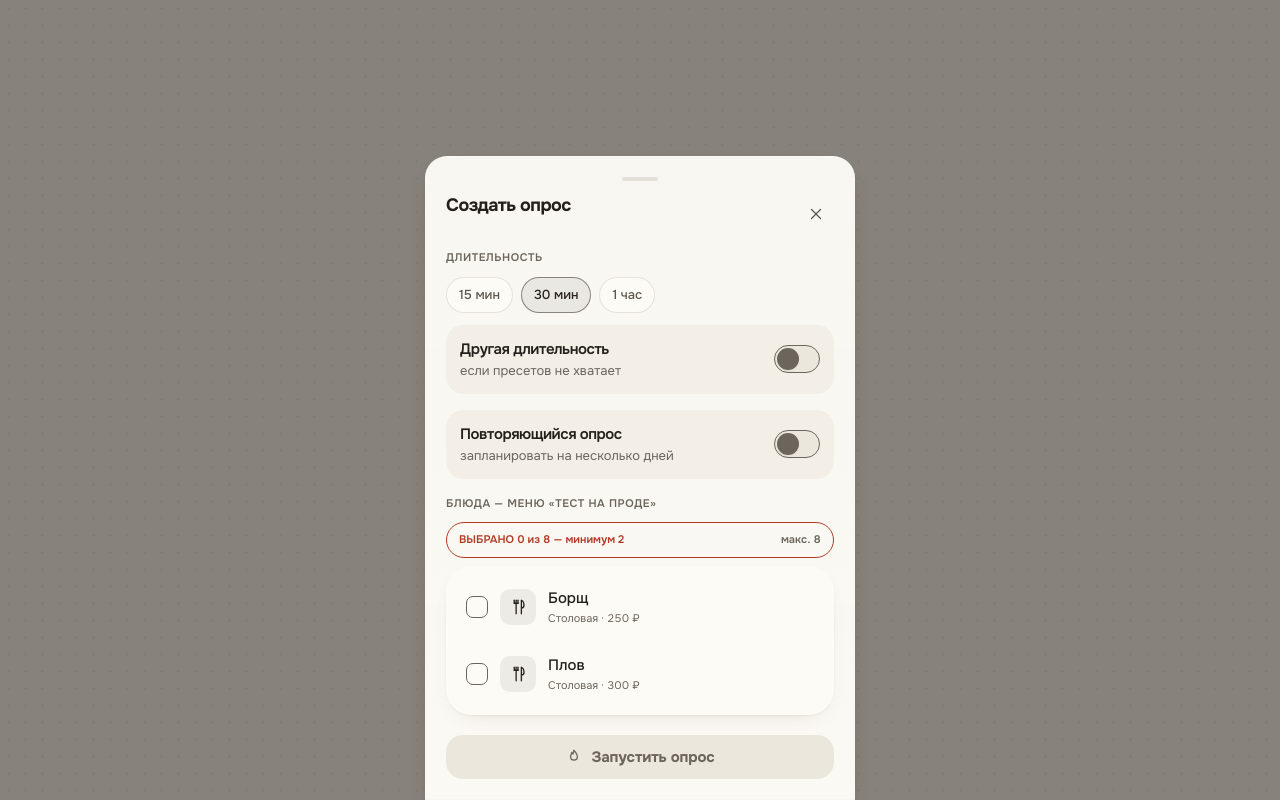
CreatePollSheet — расписания нет › разовый опрос по-прежнему требует минимум два блюда
Expected: the button "Запустить опрос" is disabled, [446,735,834,779]
Click the text "Борщ" at [568, 598], box [548,588,588,608]
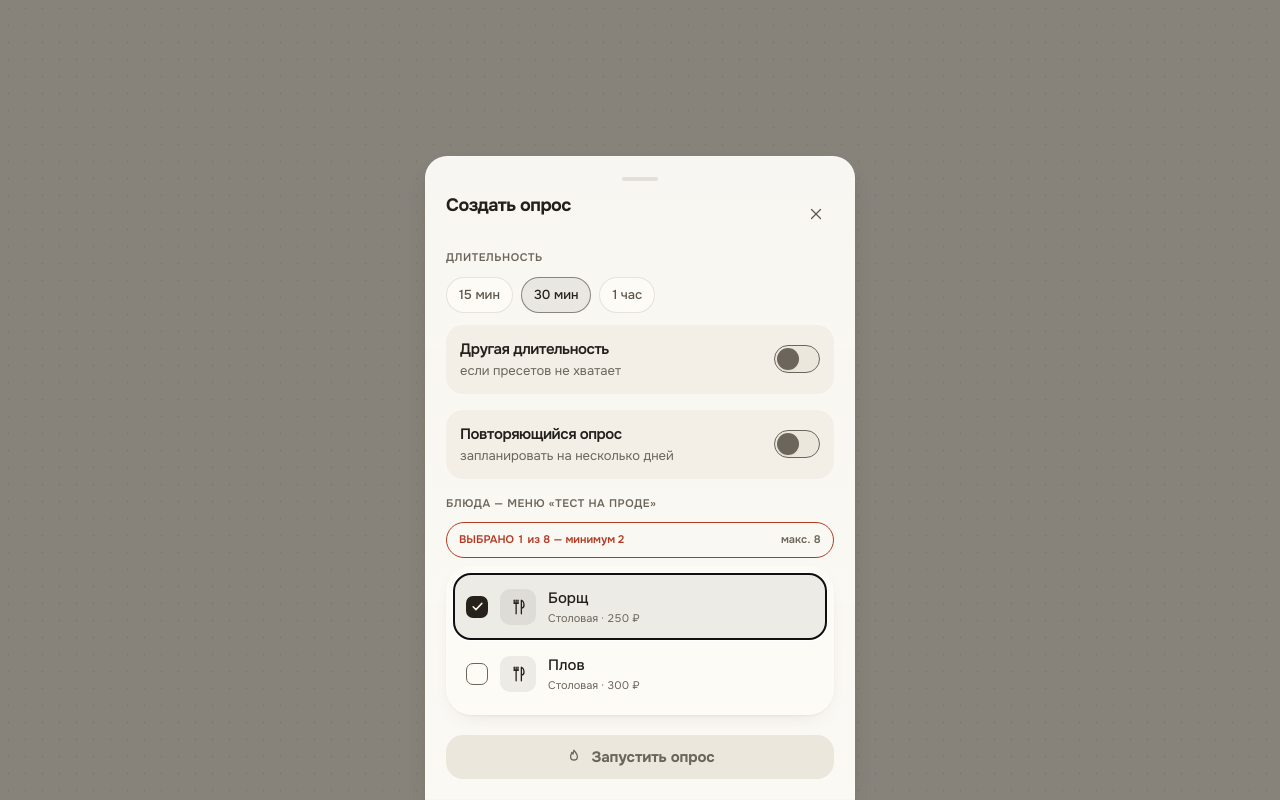
Click the text "Плов" at [566, 665], box [548,655,585,675]
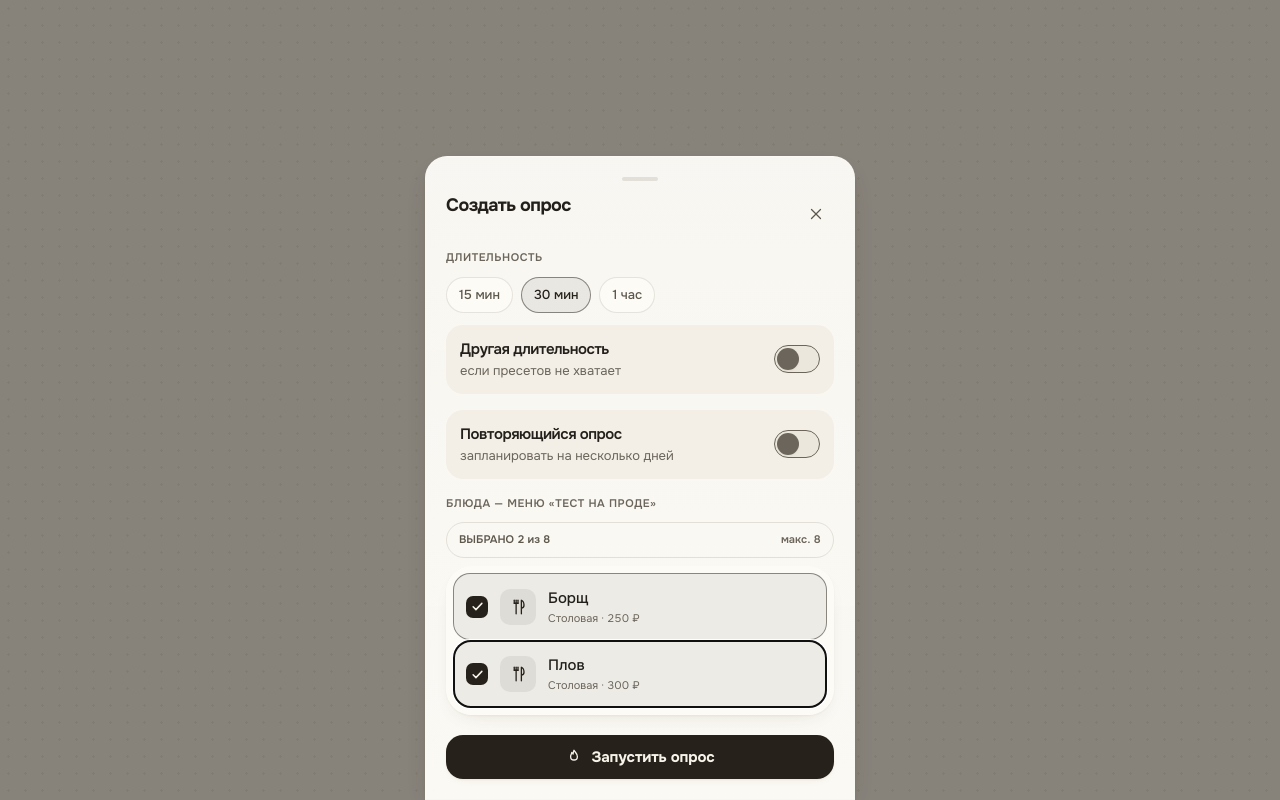
Result: the button "Запустить опрос" is enabled at [446,735,834,779]
